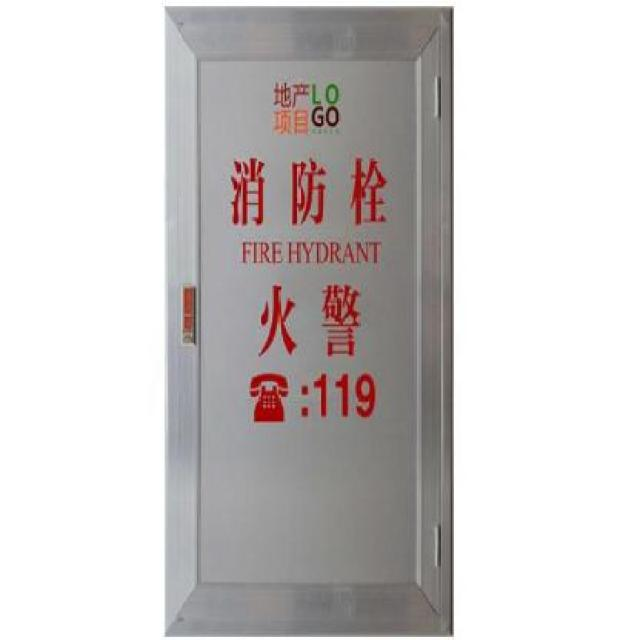firehydrant: (162, 2, 458, 639)
